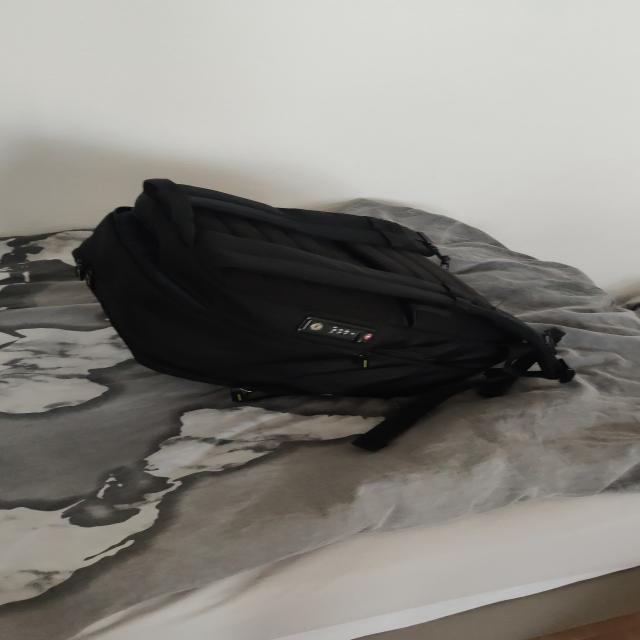backpack: (61, 169, 574, 439)
